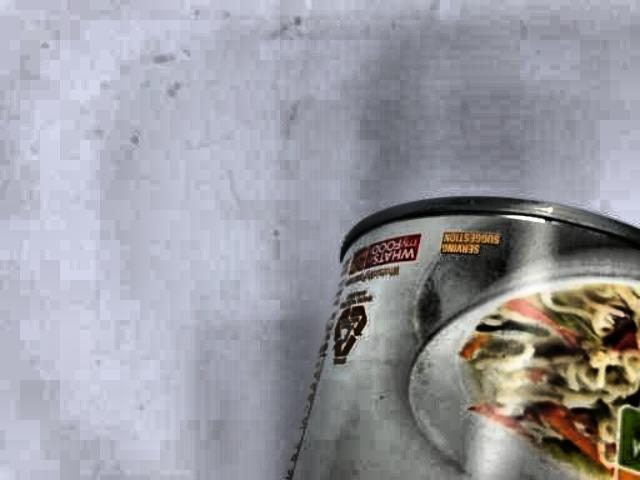Almennt: (227, 193, 640, 480)
